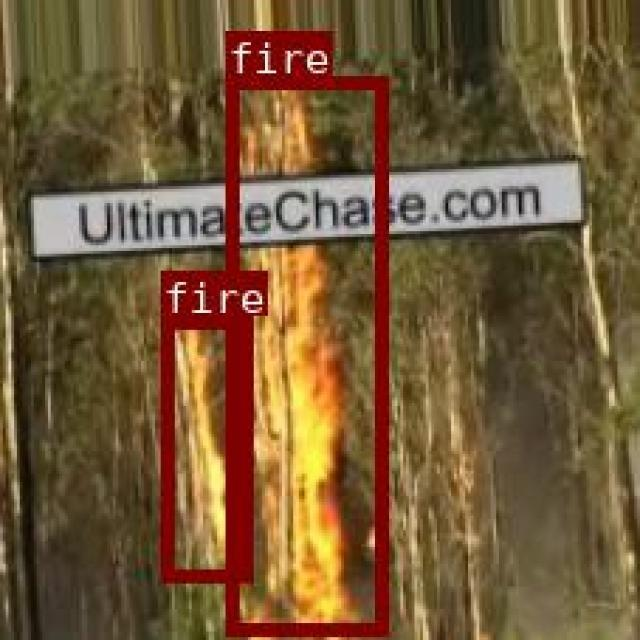fire: (223, 74, 386, 633), (160, 313, 250, 581)
